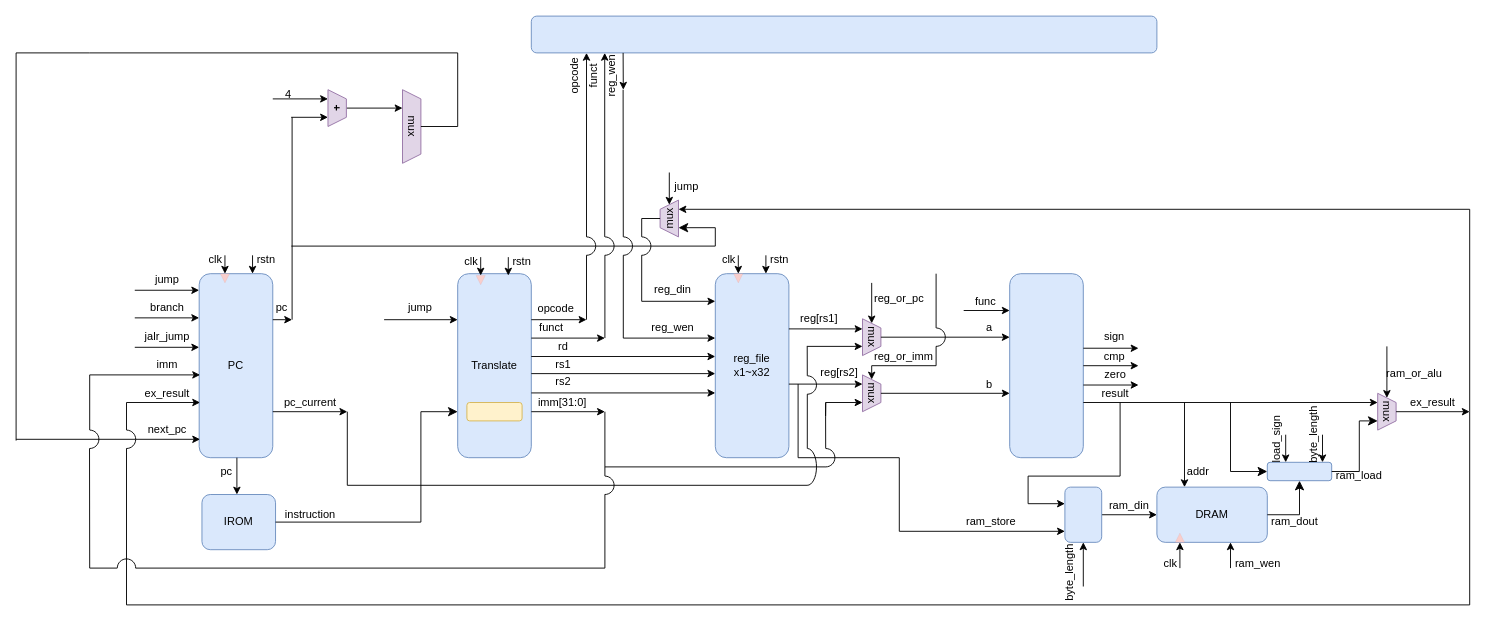
The diagram is 1493 pixels wide and 622 high, and some of its shapes have lost their labels. The shapes that lost their labels are listed below. From the top down, each one's box as (x1, y1, x2, y2) in pixels, then its label:
(530, 15, 1157, 53): Control
(1009, 273, 1083, 458): ALU
(466, 402, 522, 421): imm_gen
(1266, 461, 1332, 481): LOAD
(1064, 486, 1102, 542): STORE
